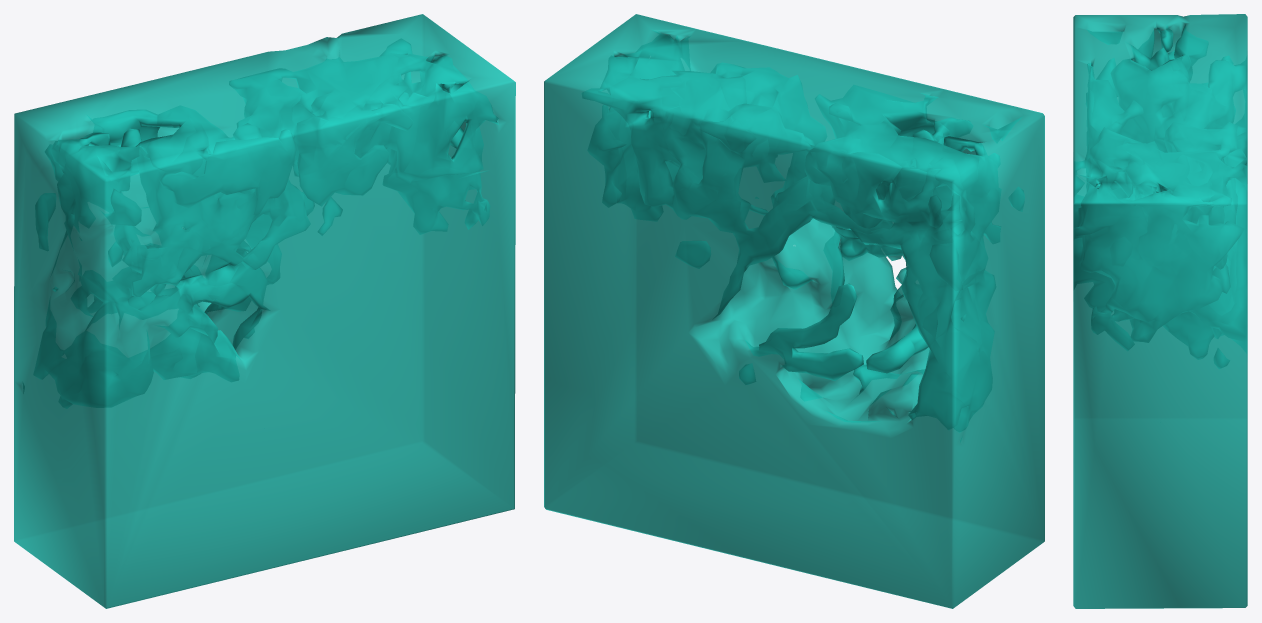
The picture shows the model from 3 angles, left to right: view 1: azimuth 30°, elevation 25°; view 2: azimuth 150°, elevation 25°; view 3: azimuth 270°, elevation 25°; orthographic projection. The views are drawn at different scales.
Visible parts, largest first — view 1: Liquid_Domain; view 2: Liquid_Domain; view 3: Liquid_Domain.
Part boxes in pixels (bbox=[...]): Liquid_Domain: bbox=[14, 14, 515, 608]; Liquid_Domain: bbox=[544, 14, 1044, 608]; Liquid_Domain: bbox=[1073, 14, 1247, 608].
Size of the model in its own units: 884 by 885 by 344.
